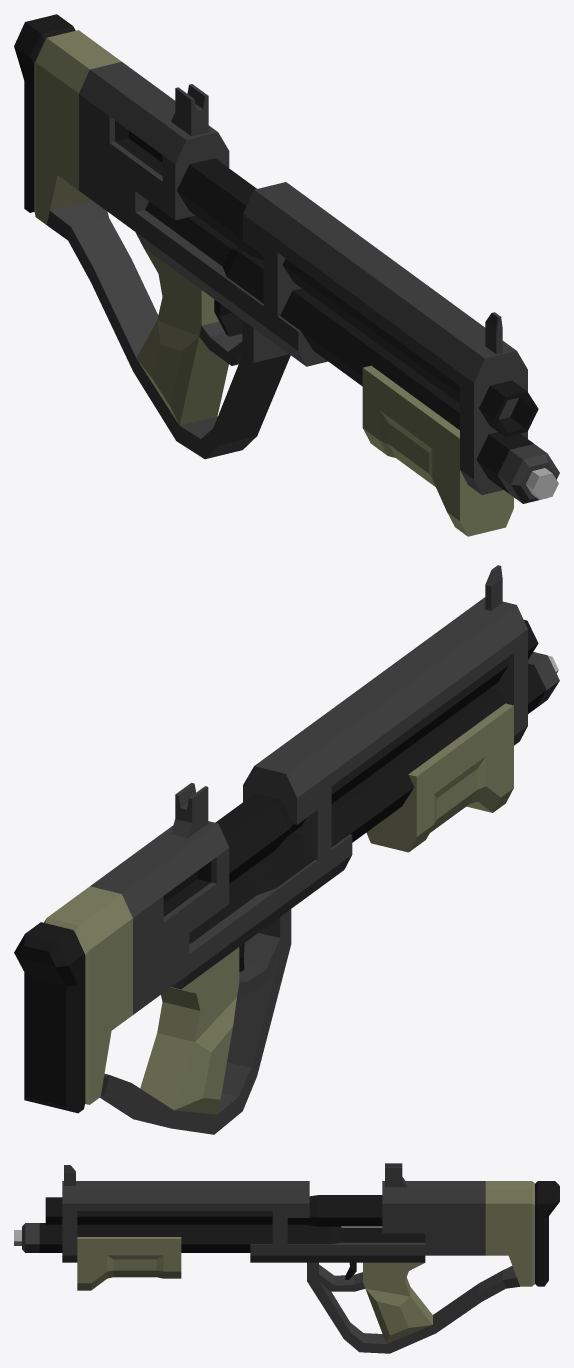
The model's file is Shotgun.fbx.
3 renders of one model, top to bottom at view 1: azimuth 30°, elevation 25°; view 2: azimuth 150°, elevation 25°; view 3: azimuth 270°, elevation 25°, orthographic. The views are drawn at different scales.
Visible parts, largest first — view 1: Shotgun Body, Shotgun Pump; view 2: Shotgun Body, Shotgun Pump; view 3: Shotgun Body, Shotgun Pump.
Part boxes in pixels (x1,y1,x2,y2): Shotgun Body: (14, 14, 559, 503); Shotgun Pump: (362, 365, 513, 536); Shotgun Body: (14, 565, 559, 1134); Shotgun Pump: (366, 703, 513, 852); Shotgun Body: (14, 1163, 559, 1353); Shotgun Pump: (77, 1237, 181, 1290).
Size of the model in its own units: 4.23 by 25.58 by 69.08.
